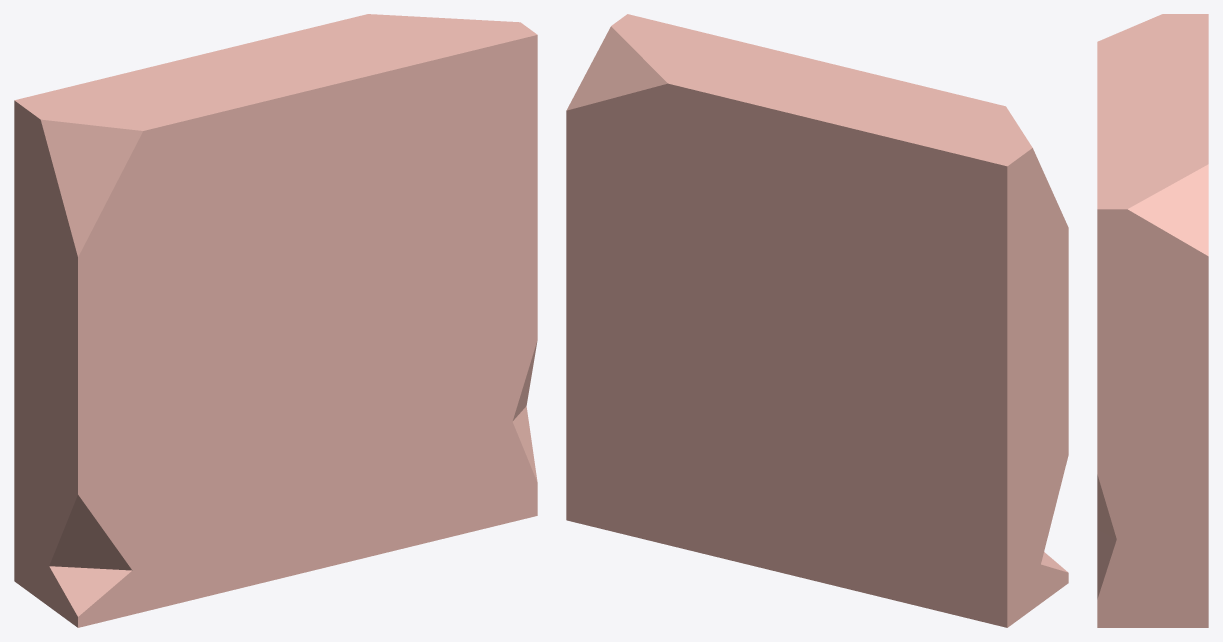
Rendered from Mega_Asset_s_Pack_Cube_208.FBX.
3 views of the same model, side by side, from view 1: azimuth 30°, elevation 25°; view 2: azimuth 150°, elevation 25°; view 3: azimuth 270°, elevation 25° (orthographic). The views are drawn at different scales.
Visible parts, largest first — view 1: Mega_Asset_s_Pack_Cube_208; view 2: Mega_Asset_s_Pack_Cube_208; view 3: Mega_Asset_s_Pack_Cube_208.
Part boxes in pixels (x1,y1,x2,y2): Mega_Asset_s_Pack_Cube_208: (14,14,537,627); Mega_Asset_s_Pack_Cube_208: (566,14,1068,627); Mega_Asset_s_Pack_Cube_208: (1097,14,1208,627).
Size of what is drawn, in the model's own units: 248 by 59.53 by 248.
